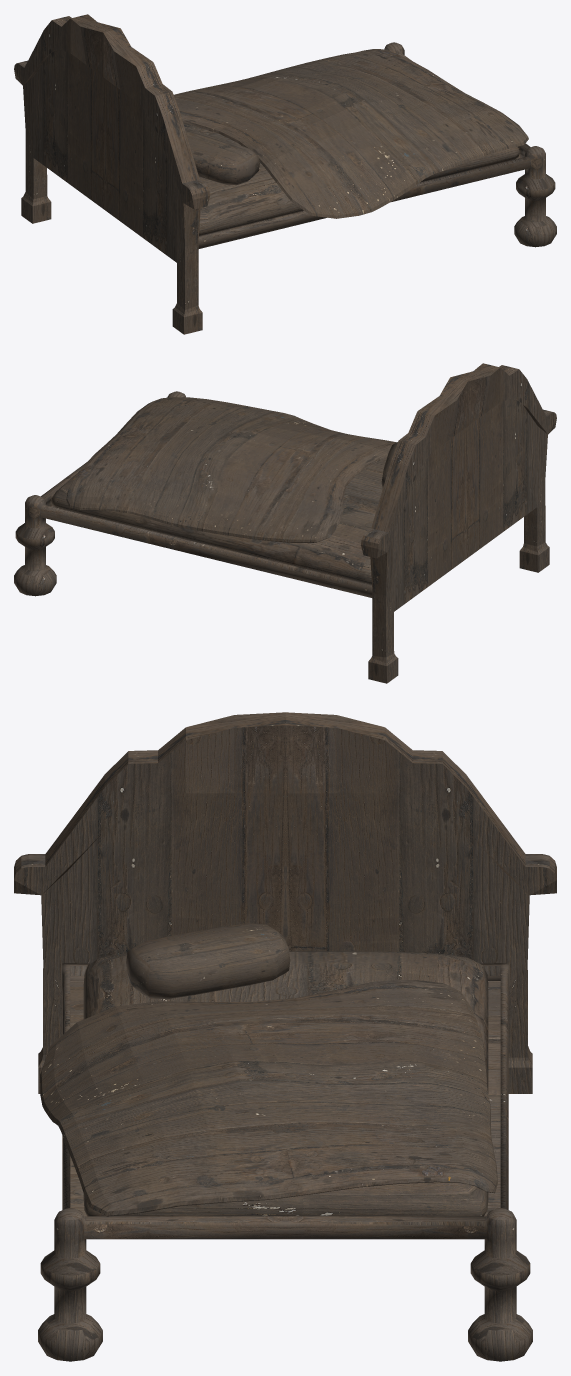
File: bed.fbx
3 renders of one model, top to bottom at view 1: azimuth 30°, elevation 25°; view 2: azimuth 150°, elevation 25°; view 3: azimuth 270°, elevation 25°, orthographic. The views are drawn at different scales.
Visible parts, largest first — view 1: Frame, Kussen.001, Bed, Kussen; view 2: Frame, Kussen.001, Bed; view 3: Frame, Kussen.001, Bed, Kussen.
Part boxes in pixels (x1,y1,x2,y2): Frame: [14, 14, 556, 334]; Kussen.001: [174, 49, 528, 218]; Bed: [183, 123, 519, 235]; Kussen: [185, 129, 259, 185]; Frame: [14, 363, 556, 683]; Kussen.001: [66, 397, 396, 542]; Bed: [51, 457, 387, 584]; Frame: [14, 712, 556, 1361]; Kussen.001: [40, 979, 497, 1216]; Bed: [83, 951, 488, 1216]; Kussen: [126, 923, 290, 998].
Size of the model in its own units: 630 by 380 by 505.
